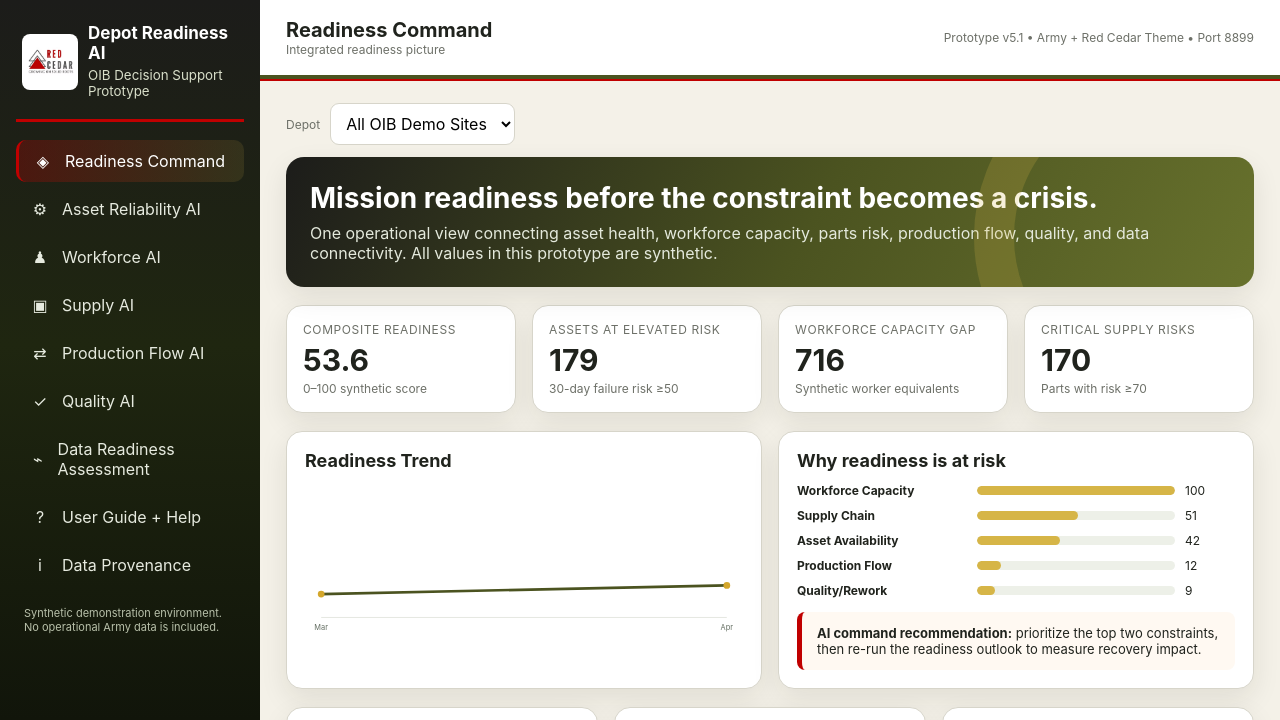
Depot Readiness React UI › shows public data but prevents assessment writes in public read-only mode
The image size is (1280, 720).
Expected: the heading "Mission readiness before the constraint becomes a crisis." is shown, [310, 181, 1230, 215]
Click the button "⌁ Data Readiness Assessment".
click(130, 459)  # box [16, 428, 244, 490]
(page scrolled)
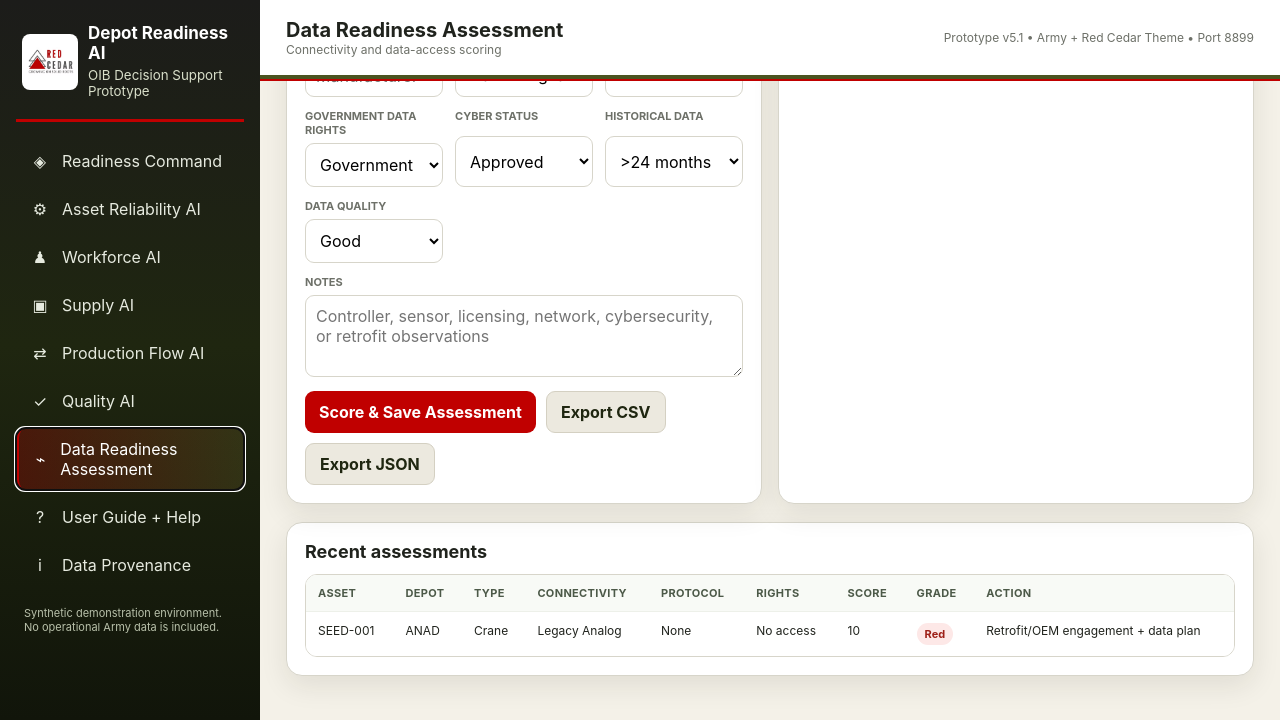
Now the button "Score & Save Assessment" is disabled, box [305, 391, 536, 433]
